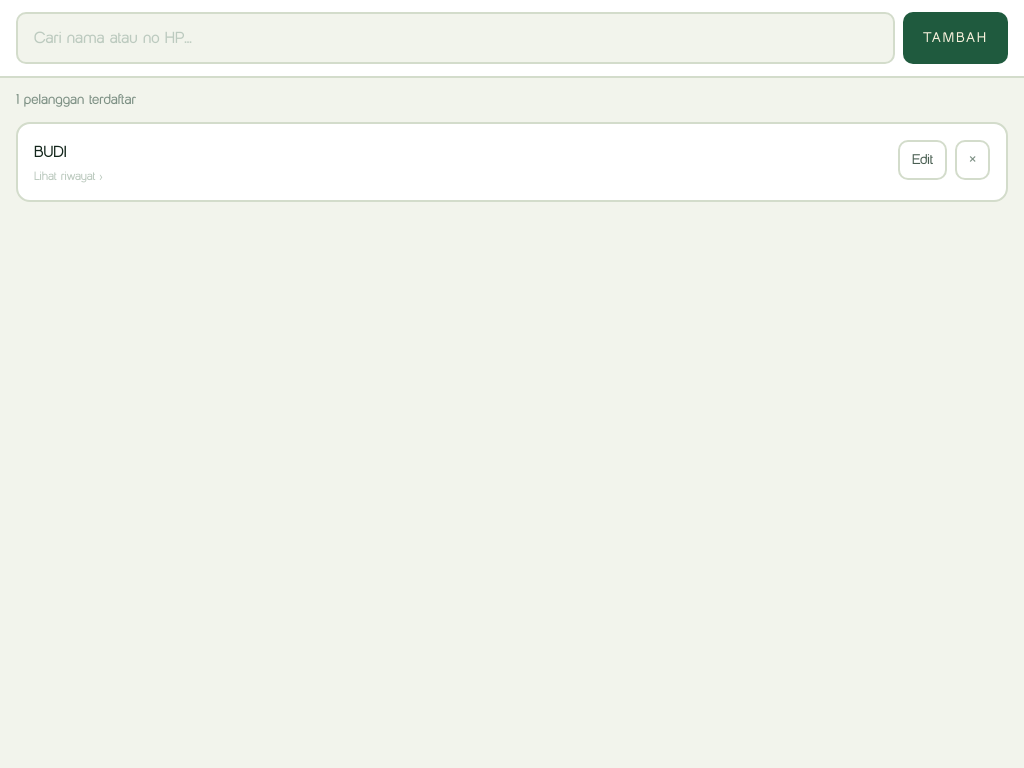
Test case: PelangganPage › closes delete modal when Batal clicked
Click the button "×".
click(973, 160)  # box [955,140,990,180]
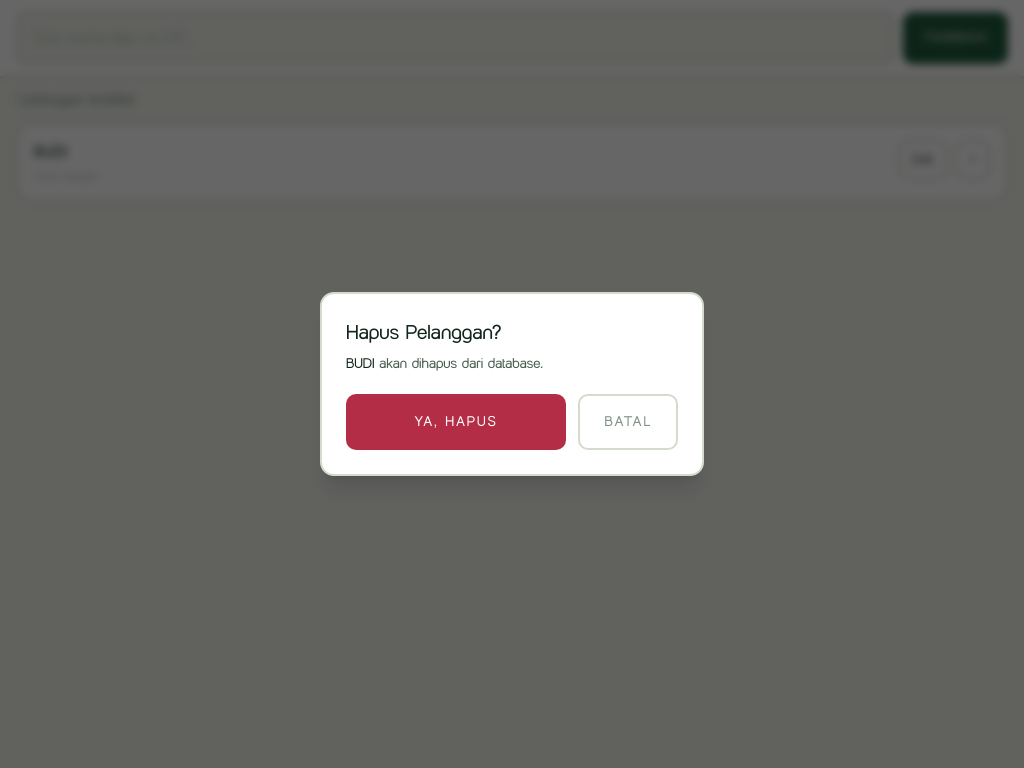
Click the button "Batal".
click(628, 422)  # box [578,394,678,450]
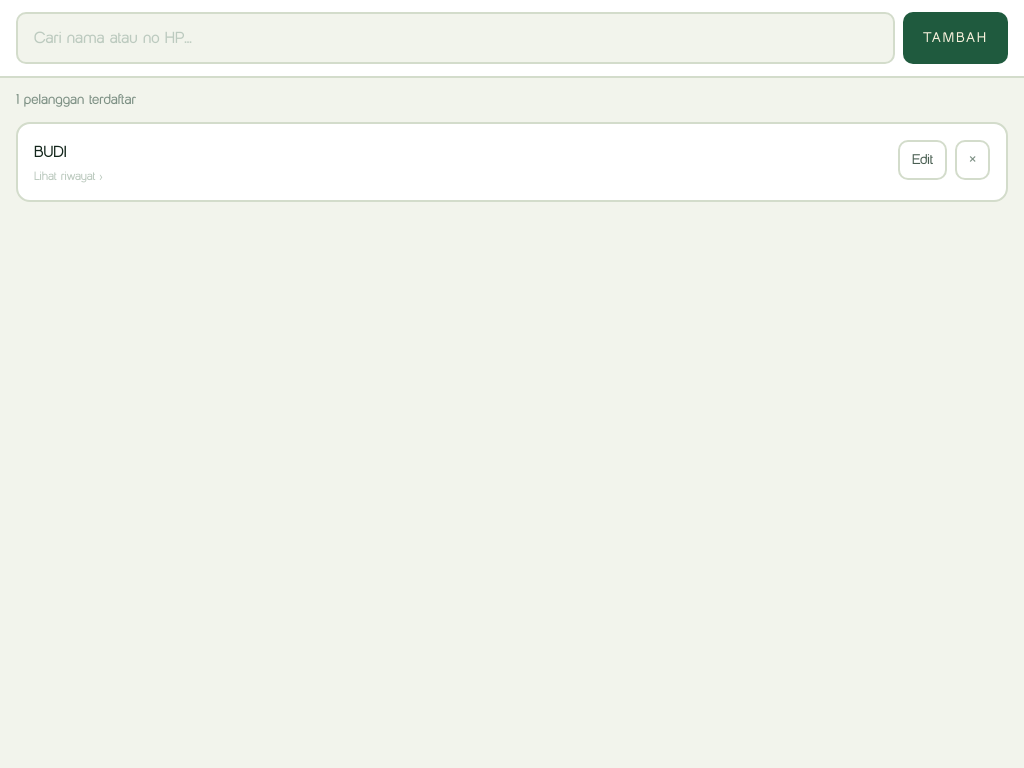
expect the heading "Hapus Pelanggan?" is gone: met
